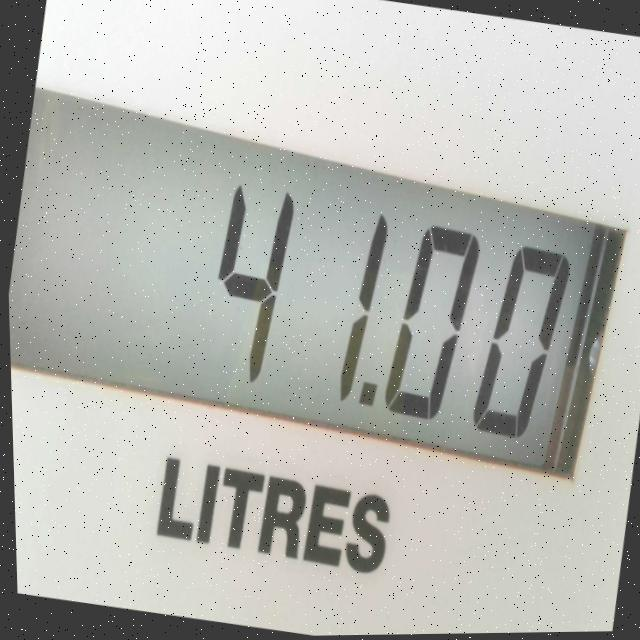.: (351, 366, 381, 424)
0: (459, 224, 587, 466), (369, 203, 499, 438)
1: (304, 190, 397, 417)
4: (178, 160, 311, 411)
